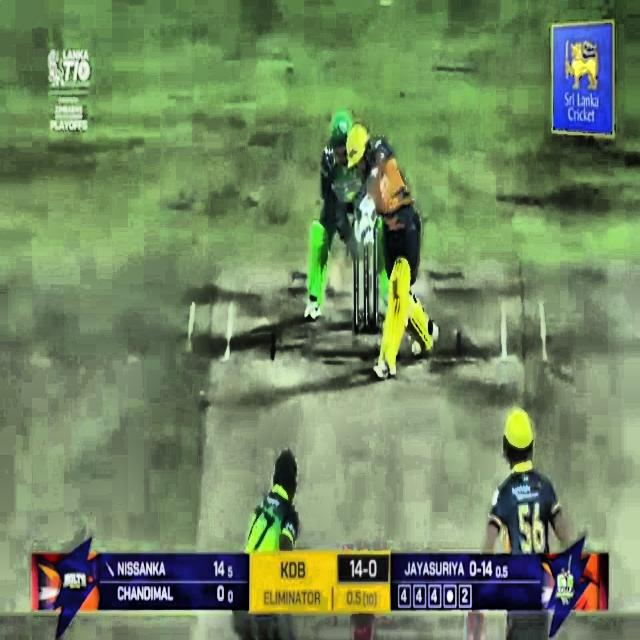Left-stump: (354, 259, 359, 332)
Middle-stump: (364, 248, 368, 334)
Right-stump: (373, 236, 377, 333)
